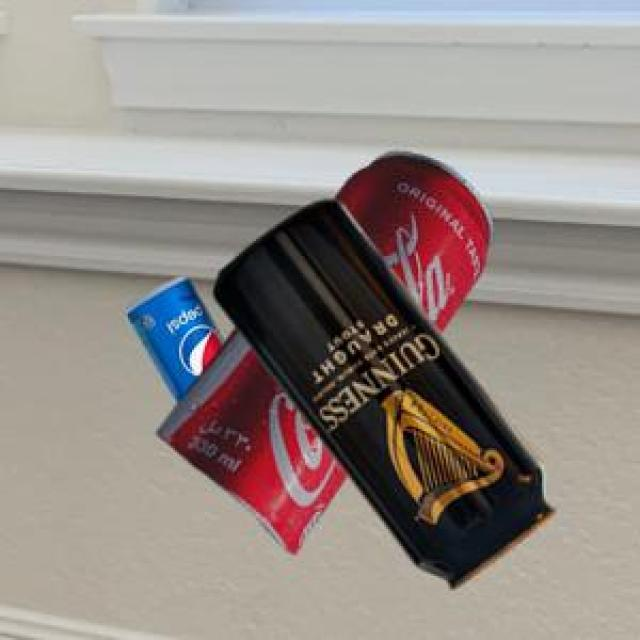logam: (210, 197, 551, 586), (155, 325, 365, 549), (332, 148, 490, 439), (125, 274, 219, 400)
